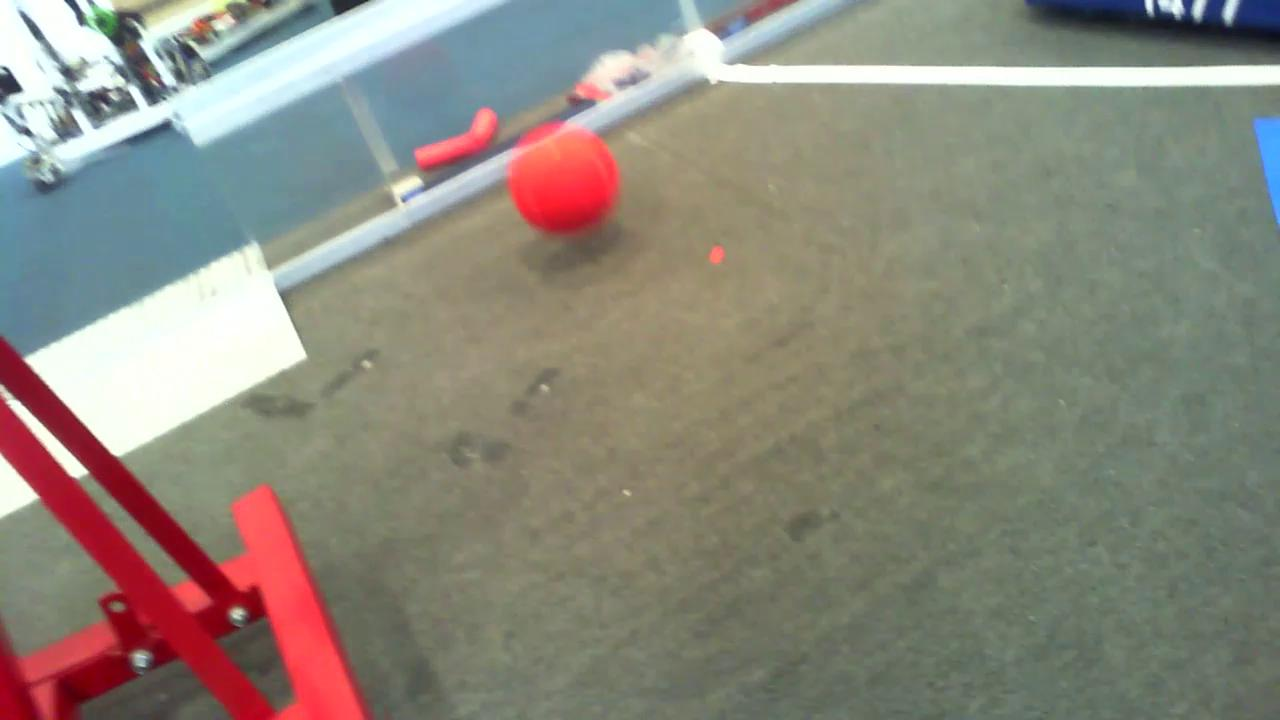Red_Ball: (498, 123, 626, 234)
